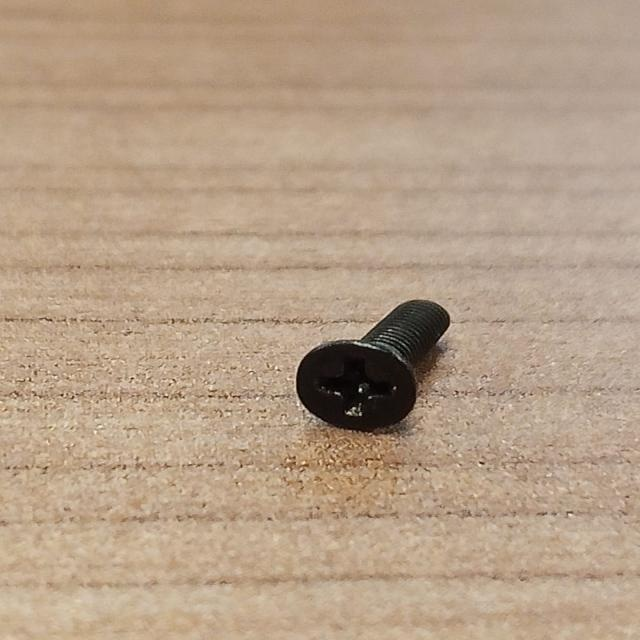phillips: (295, 338, 418, 432)
